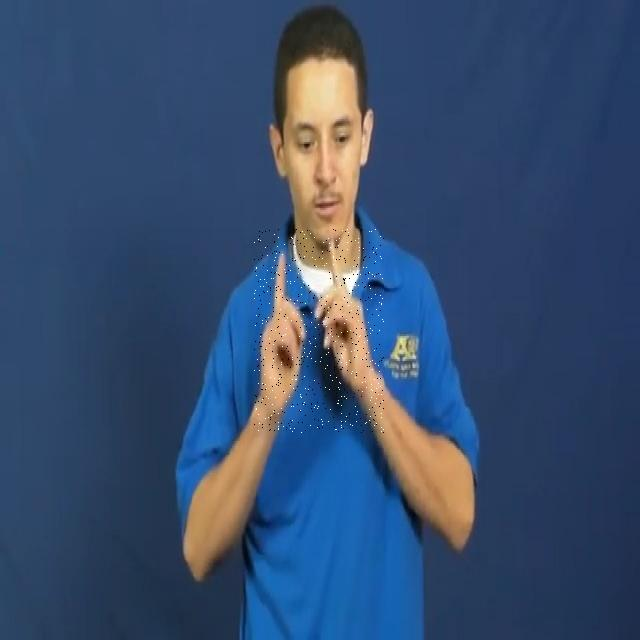order: (254, 230, 384, 433)
